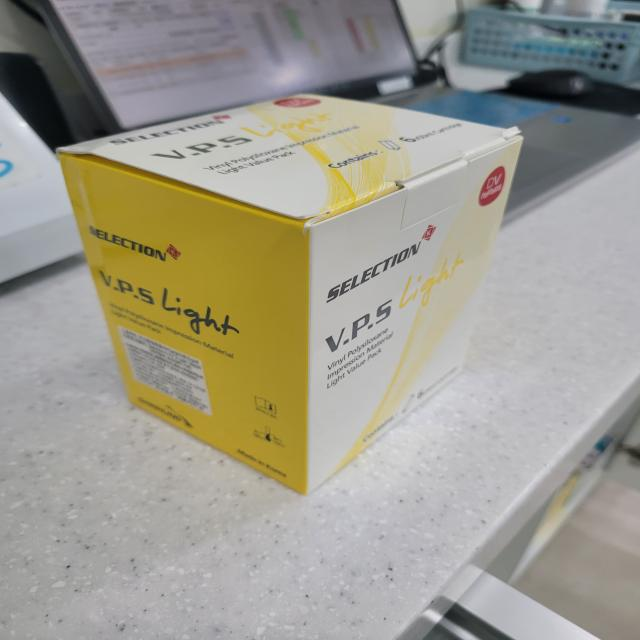impression: (38, 83, 555, 504)
